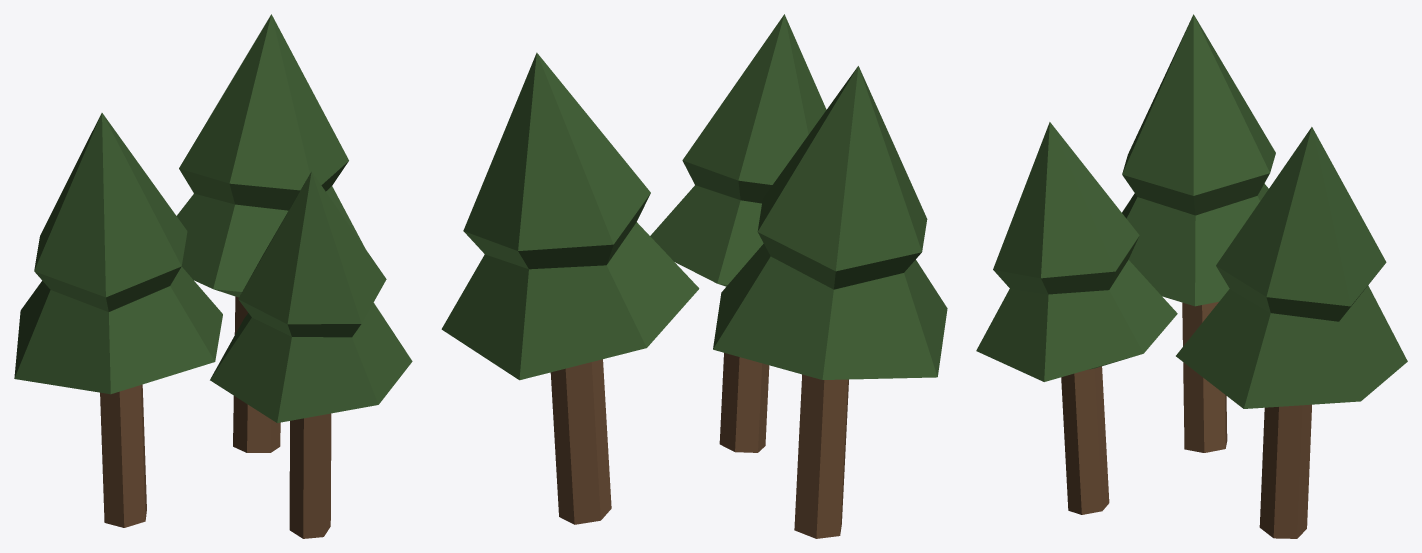
Rendered from Tree_Tiny2.fbx.
3 renders of one model, left to right at view 1: azimuth 30°, elevation 25°; view 2: azimuth 150°, elevation 25°; view 3: azimuth 270°, elevation 25°, orthographic. The views are drawn at different scales.
Parts seen in each view (by area): view 1: SM_Env_Generic_Tree_03; view 2: SM_Env_Generic_Tree_03; view 3: SM_Env_Generic_Tree_03.
Boxes of the visible parts, left/top/right/bottom form: SM_Env_Generic_Tree_03: left=14, top=14, right=412, bottom=538; SM_Env_Generic_Tree_03: left=441, top=14, right=947, bottom=538; SM_Env_Generic_Tree_03: left=976, top=14, right=1407, bottom=538.
Bounding box in the file's own units: 103 × 109 × 101.
